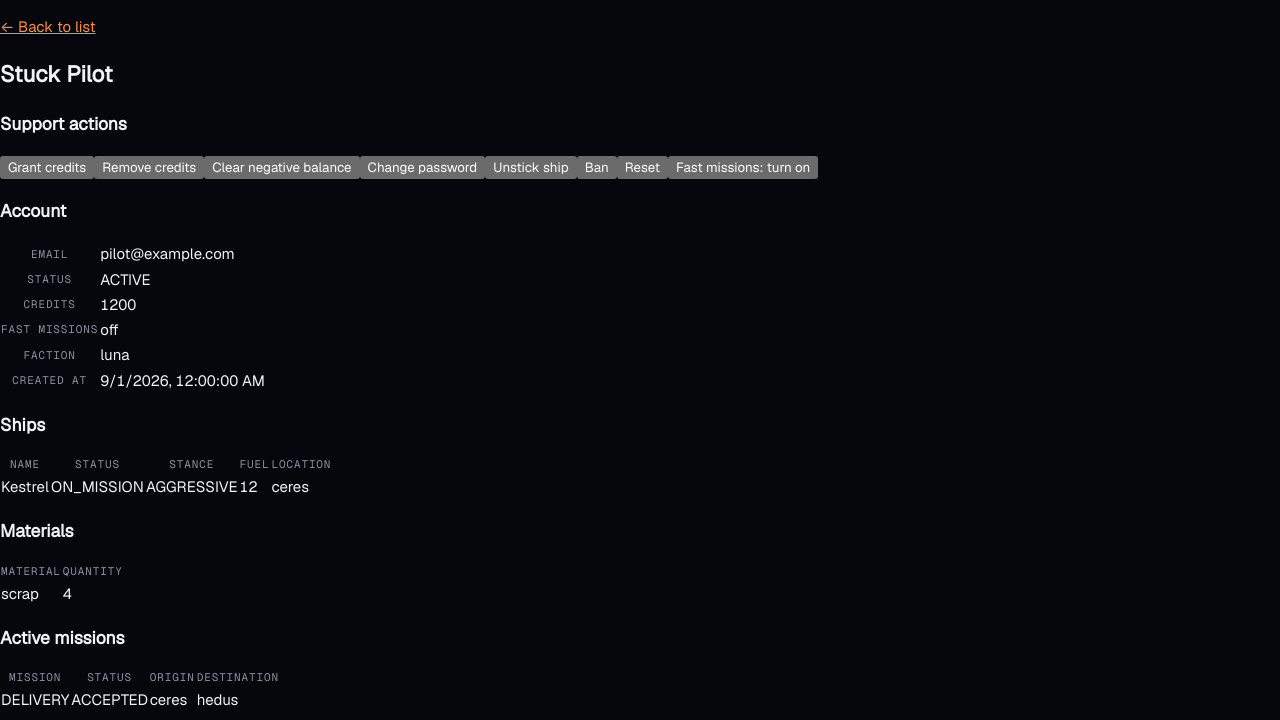
Test case: support actions (S11.5, S11.4 acceptance) › requires a reason before a ban can be confirmed and posts it
Click the button "Ban": [597, 168] box [577, 156, 617, 179]
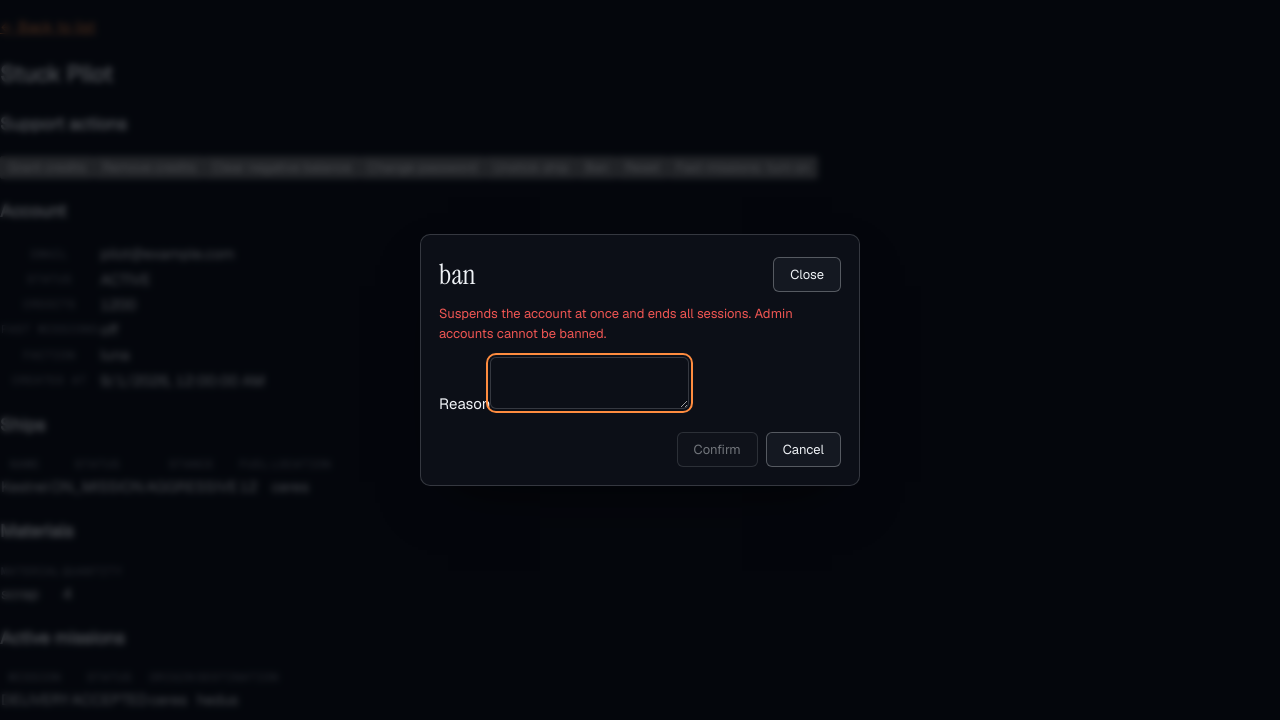
Now the button "Confirm" is disabled, box [677, 432, 758, 467]
In the text box labelled "Reason": [590, 383] box [490, 357, 689, 409], type "repeat offender"
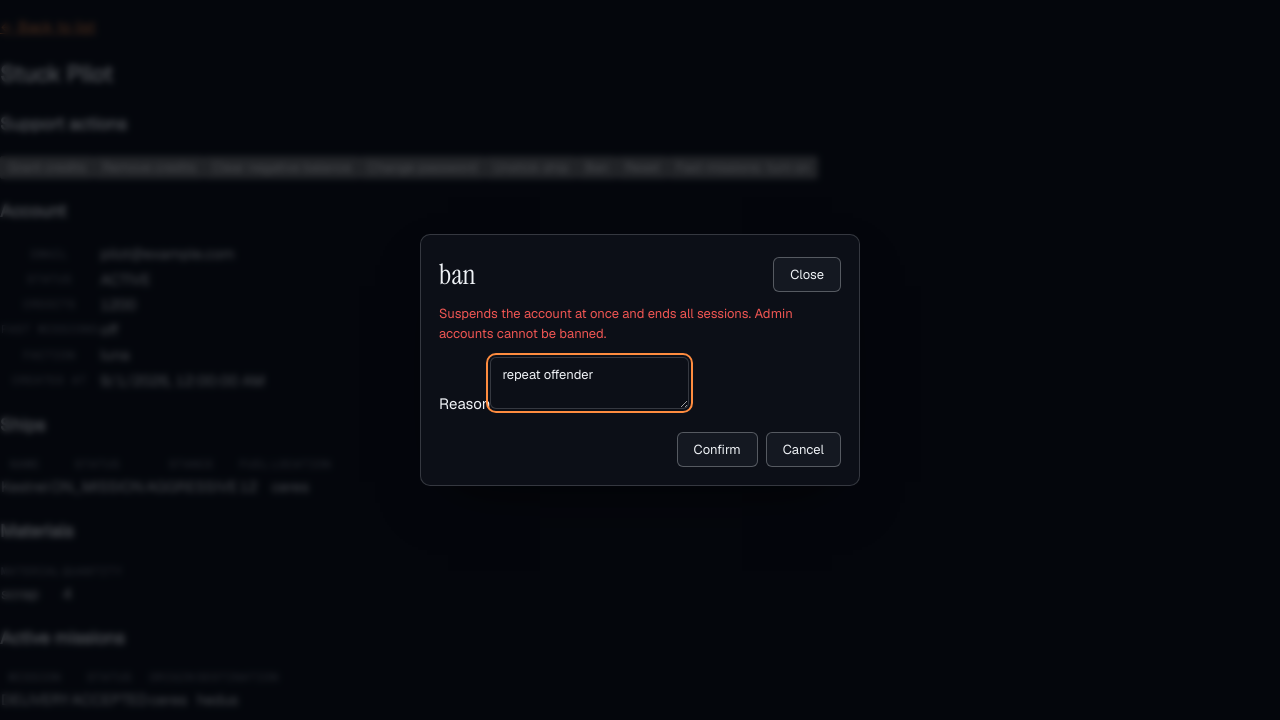
Now the button "Confirm" is enabled
Click the button "Confirm": [717, 450] box [677, 432, 758, 467]
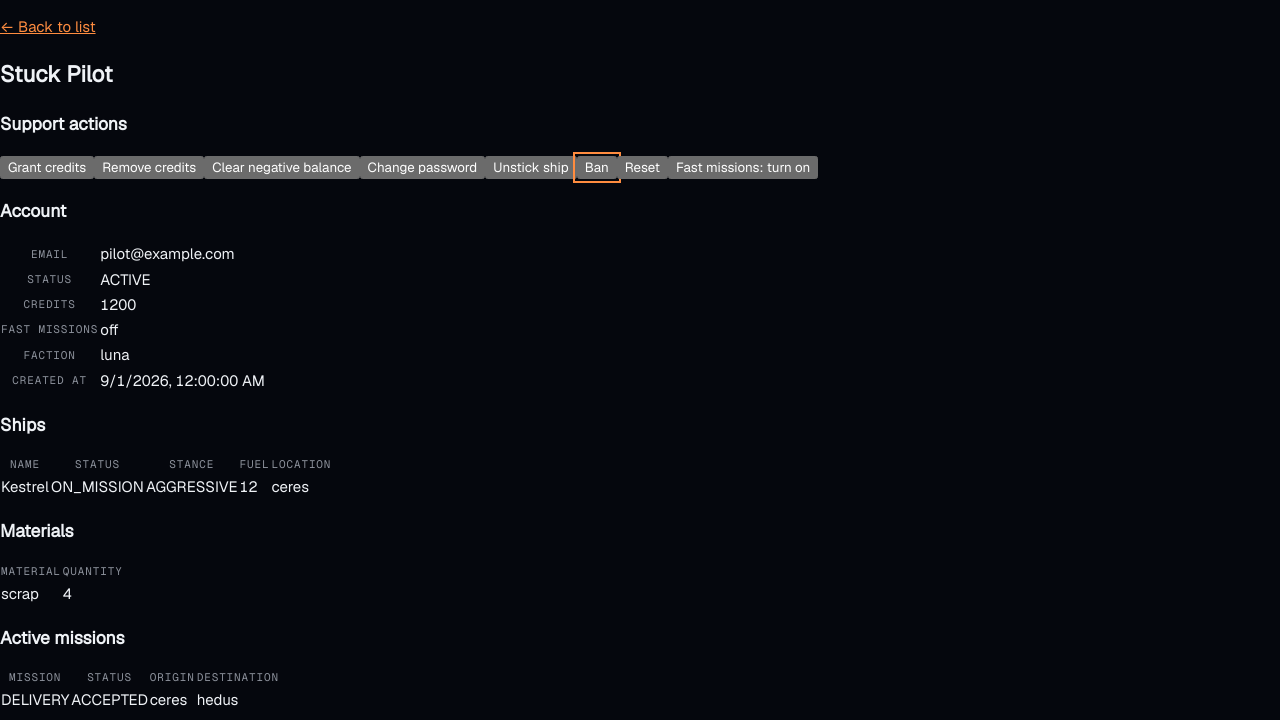
Now the dialog is gone
